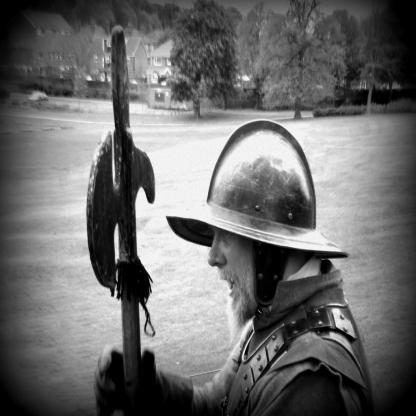Helmet: (184, 134, 338, 310)
